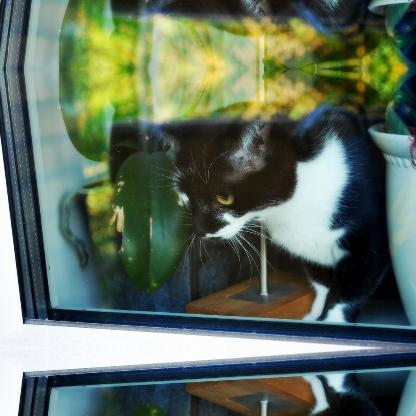Cat: (130, 97, 387, 321)
